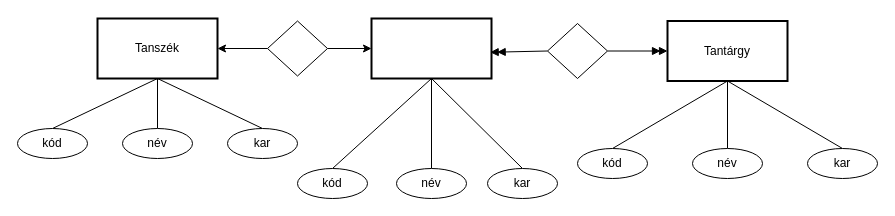
Some shapes in this 895 by 216 pixel diagram are drawn without their labels. Here are the shapes that lost their labels. From the top down, the box of each, then its label:
(266, 20, 328, 76): T-O
(370, 17, 492, 79): Oktató
(546, 22, 608, 78): O-T
